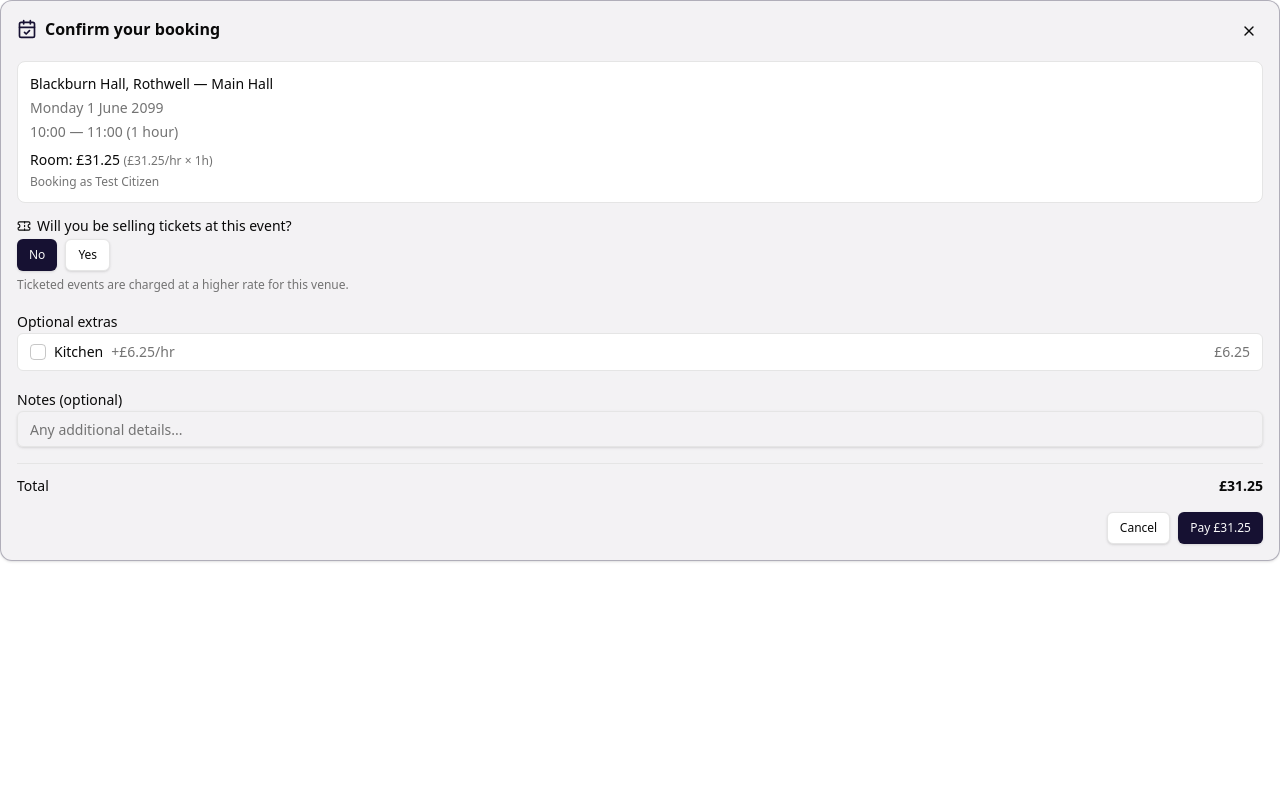
CitizenBookingForm › returns from the payment step to the confirm screen via Back
Click the button "Pay £31.25".
click(1221, 528)  # box 1178,512 -> 1263,544
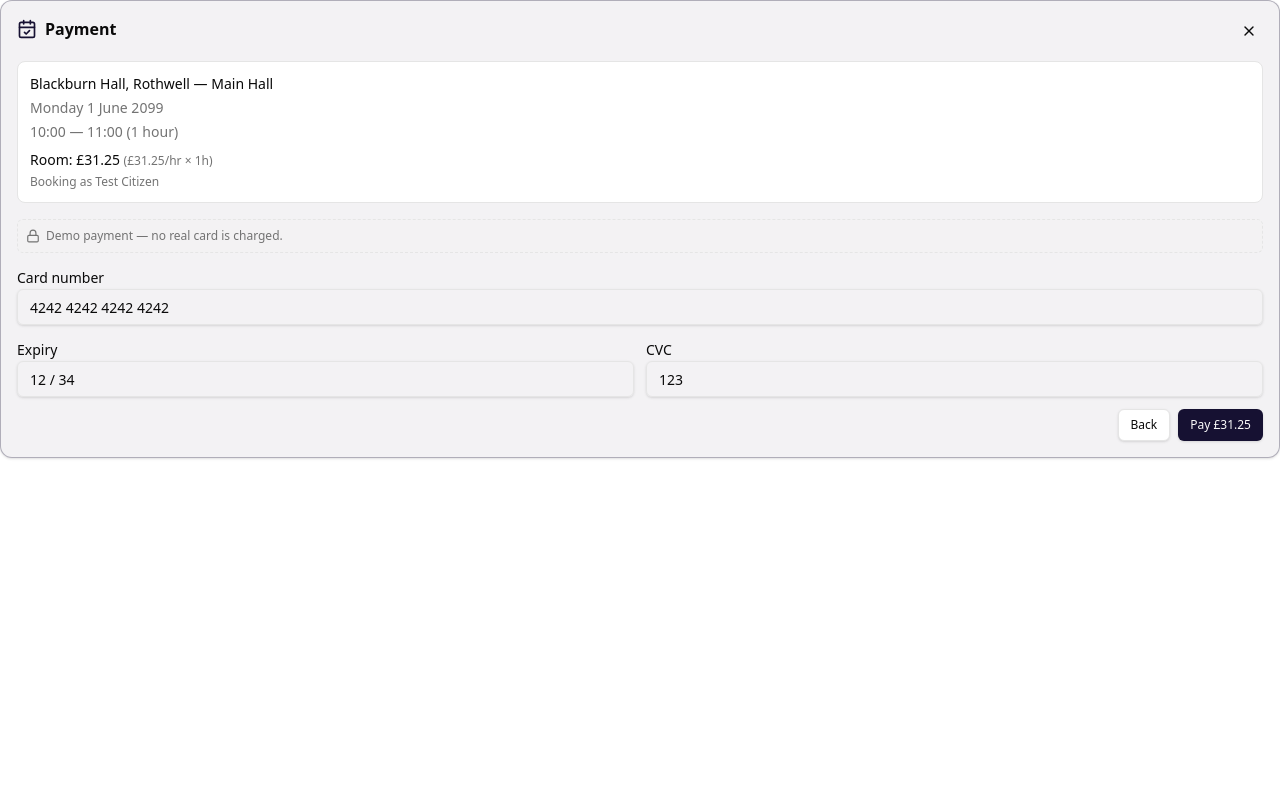
Expected: the text "Demo payment — no real card is charged." is shown, 17,219 -> 1263,253
Click the button "Back".
click(1144, 425)  # box 1118,409 -> 1170,441
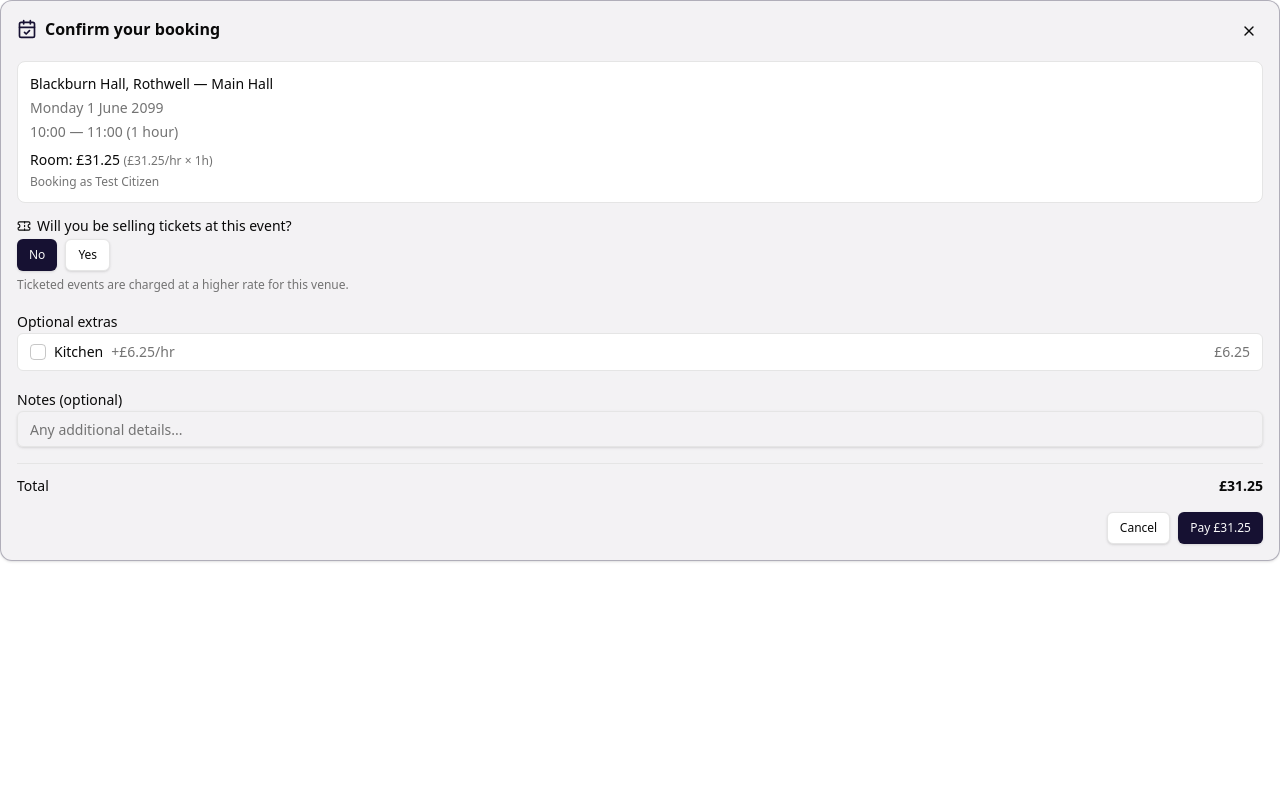
Expected: the text "Will you be selling tickets at this event?" is shown, 17,216 -> 292,235
